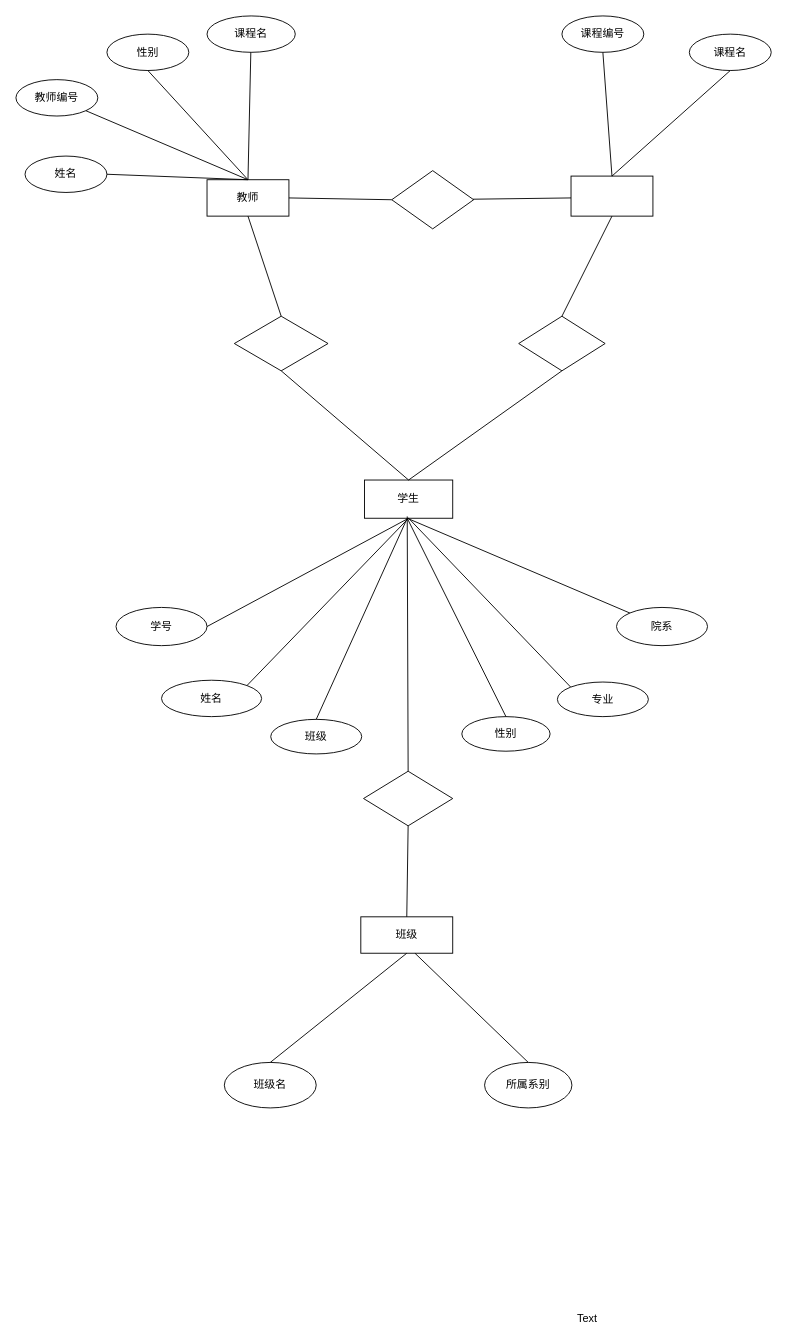
Some shapes in this 787 by 1344 pixel diagram are drawn without their labels. Here are the shapes that lost their labels. From the top down, the centre of each, then its label:
At point 432,199: "任教".
At point 611,195: "课程".
At point 280,343: "受教".
At point 561,343: "选修".
At point 408,798: "所属".
